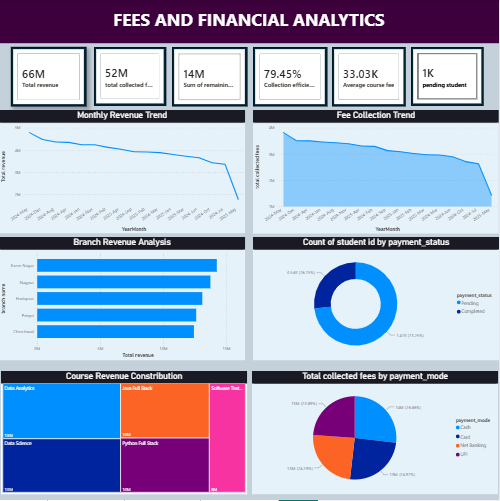

The dashboard page shown, as its layout file describes it:
{"tool":"powerbi","page":{"name":"Page 5","canvas":[1400,1400],"ordinal":4},"visuals":[{"type":"textbox","box":[0,0,1400,120.6],"z":0},{"type":"cardVisual","fields":{"Data":["Revenue measures.Total revenue"]},"box":[33.8,132.3,210.8,166.2],"z":1000},{"type":"cardVisual","fields":{"Data":["Revenue measures.total collected fees"]},"box":[264.6,132.3,201.5,164.6],"z":2000},{"type":"cardVisual","fields":{"Data":["Sum(fees.remaining_fee)"]},"box":[483.1,132.3,210.8,166.2],"z":3000},{"type":"cardVisual","fields":{"Data":["Revenue measures.Collection efficiency"]},"box":[710.8,130.8,207.7,166.2],"z":4000},{"type":"cardVisual","fields":{"Data":["Average metrics.Average course fee"]},"box":[932.3,132.3,206.2,166.2],"z":5000},{"type":"cardVisual","fields":{"Data":["Revenue measures.pending student count"]},"box":[1152.3,132.3,203.1,164.6],"z":6000},{"type":"lineChart","title":"Monthly Revenue Trend","fields":{"Y":["Revenue measures.Total revenue"],"Category":["DateTable.YearMonth"]},"box":[0,307.7,689.2,344.6],"z":7000},{"type":"lineChart","title":"Fee Collection Trend","fields":{"Category":["DateTable.YearMonth"],"Y":["Revenue measures.total collected fees"]},"box":[710.8,307.7,687.7,346.2],"z":8000},{"type":"barChart","title":"Branch Revenue Analysis","fields":{"Y":["Revenue measures.total revenue"],"Category":["branches_dim.branch name"]},"box":[0,664.6,689.2,344.6],"z":9000},{"type":"donutChart","fields":{"Category":["fees.payment_status"],"Y":["CountNonNull(admissions.student id)"]},"box":[710.8,664.6,689.2,344.6],"z":10000},{"type":"pieChart","title":"Total collected fees by payment_mode","fields":{"Y":["Revenue measures.total collected fees"],"Category":["fees.payment_mode"]},"box":[709.2,1040,689.2,344.6],"z":11000},{"type":"treemap","title":"Course Revenue Constribution","fields":{"Group":["courses_dim.course name"],"Values":["Revenue measures.total collected fees"]},"box":[4.6,1040,689.2,344.6],"z":12000}]}

Visuals, with their boxes in screenshot pixels (x1, y1, x2, y2), scaled from the page's 1400x1400 canvas onto the 500x501 screenshot:
textbox: {"left": 0, "top": 0, "right": 499, "bottom": 43}
cardVisual - Revenue measures.Total revenue: {"left": 12, "top": 47, "right": 87, "bottom": 107}
cardVisual - Revenue measures.total collected fees: {"left": 95, "top": 47, "right": 166, "bottom": 106}
cardVisual - Sum(fees.remaining_fee): {"left": 173, "top": 47, "right": 248, "bottom": 107}
cardVisual - Revenue measures.Collection efficiency: {"left": 254, "top": 47, "right": 328, "bottom": 106}
cardVisual - Average metrics.Average course fee: {"left": 333, "top": 47, "right": 407, "bottom": 107}
cardVisual - Revenue measures.pending student count: {"left": 412, "top": 47, "right": 484, "bottom": 106}
"Monthly Revenue Trend" lineChart: {"left": 0, "top": 110, "right": 246, "bottom": 233}
"Fee Collection Trend" lineChart: {"left": 254, "top": 110, "right": 499, "bottom": 234}
"Branch Revenue Analysis" barChart: {"left": 0, "top": 238, "right": 246, "bottom": 361}
donutChart - fees.payment_status x CountNonNull(admissions.student id): {"left": 254, "top": 238, "right": 499, "bottom": 361}
"Total collected fees by payment_mode" pieChart: {"left": 253, "top": 372, "right": 499, "bottom": 495}
"Course Revenue Constribution" treemap: {"left": 2, "top": 372, "right": 248, "bottom": 495}
